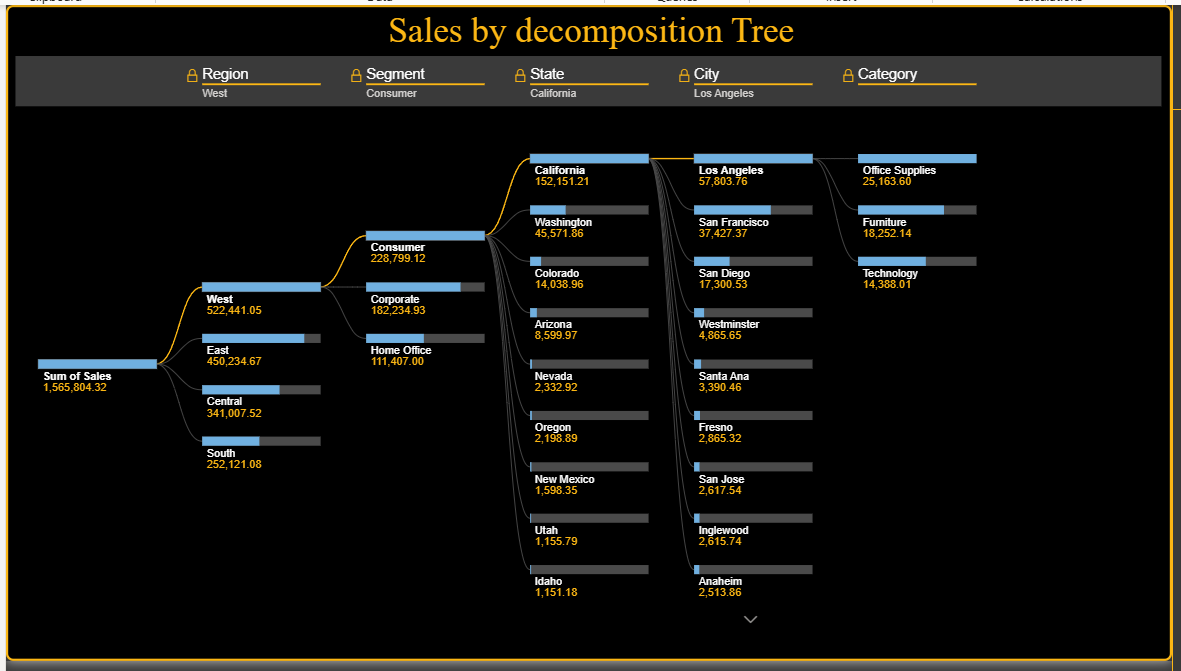

This screenshot's page, from the dashboard's own definition file:
{"tool":"powerbi","page":{"name":"Page 4","canvas":[1280,720],"ordinal":3},"visuals":[{"type":"decompositionTreeVisual","title":"Sales by decomposition Tree","fields":{"Analyze":["Sum(Amazon Store Sales Data xlsx -.Sales)"],"ExplainBy":["Amazon Store Sales Data xlsx -.Region","Amazon Store Sales Data xlsx -.Segment","Amazon Store Sales Data xlsx -.State","Amazon Store Sales Data xlsx -.City","Amazon Store Sales Data xlsx -.Category"]},"box":[0,0,1280,720],"z":0}]}

Visuals, with their boxes in screenshot pixels (x1, y1, x2, y2):
"Sales by decomposition Tree" decompositionTreeVisual: {"left": 3, "top": 3, "right": 1168, "bottom": 658}
